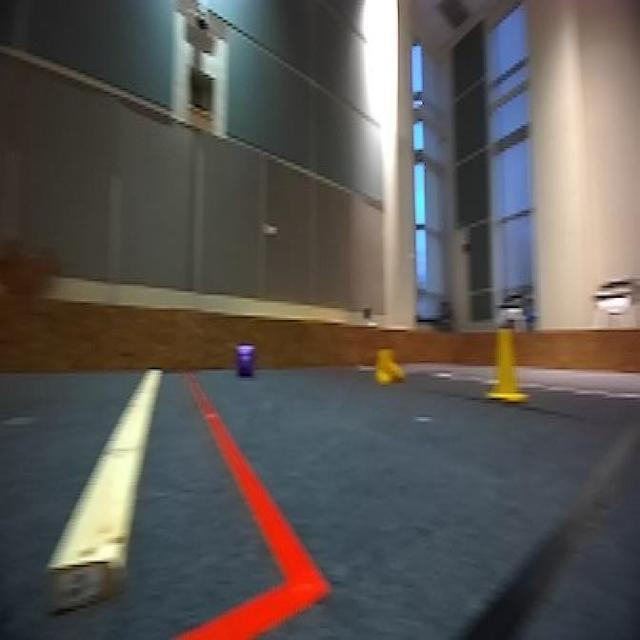frc_cone: (483, 322, 528, 405), (371, 344, 408, 386)
frc_cube: (235, 344, 256, 379)
